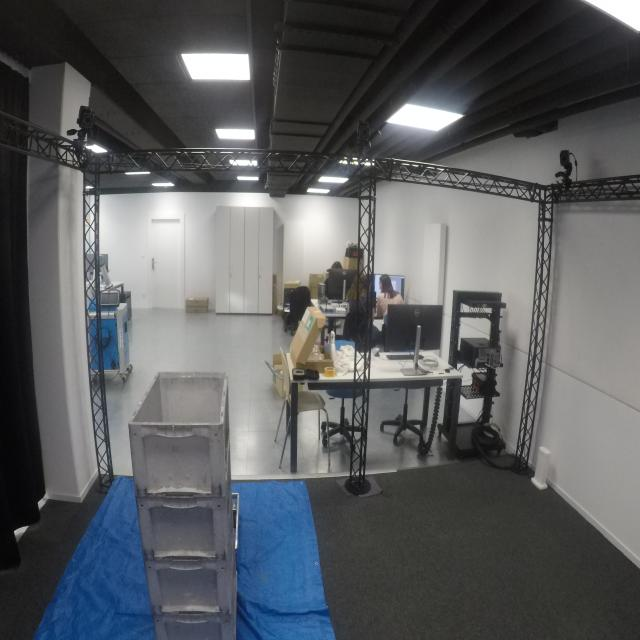Box4G: (129, 368, 235, 499), (138, 447, 234, 570), (138, 542, 243, 624), (150, 572, 240, 640)
